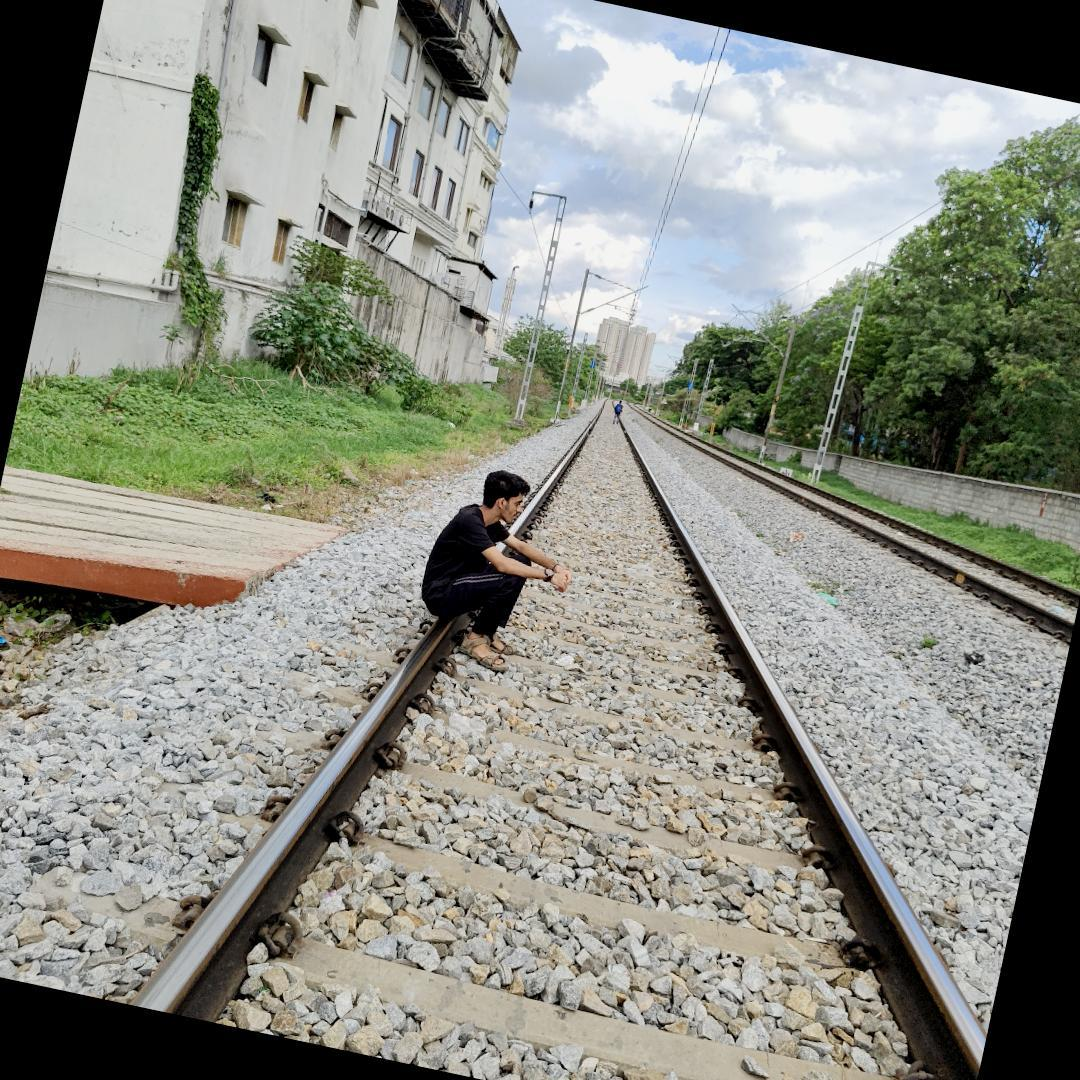sitting: (394, 459, 583, 680)
